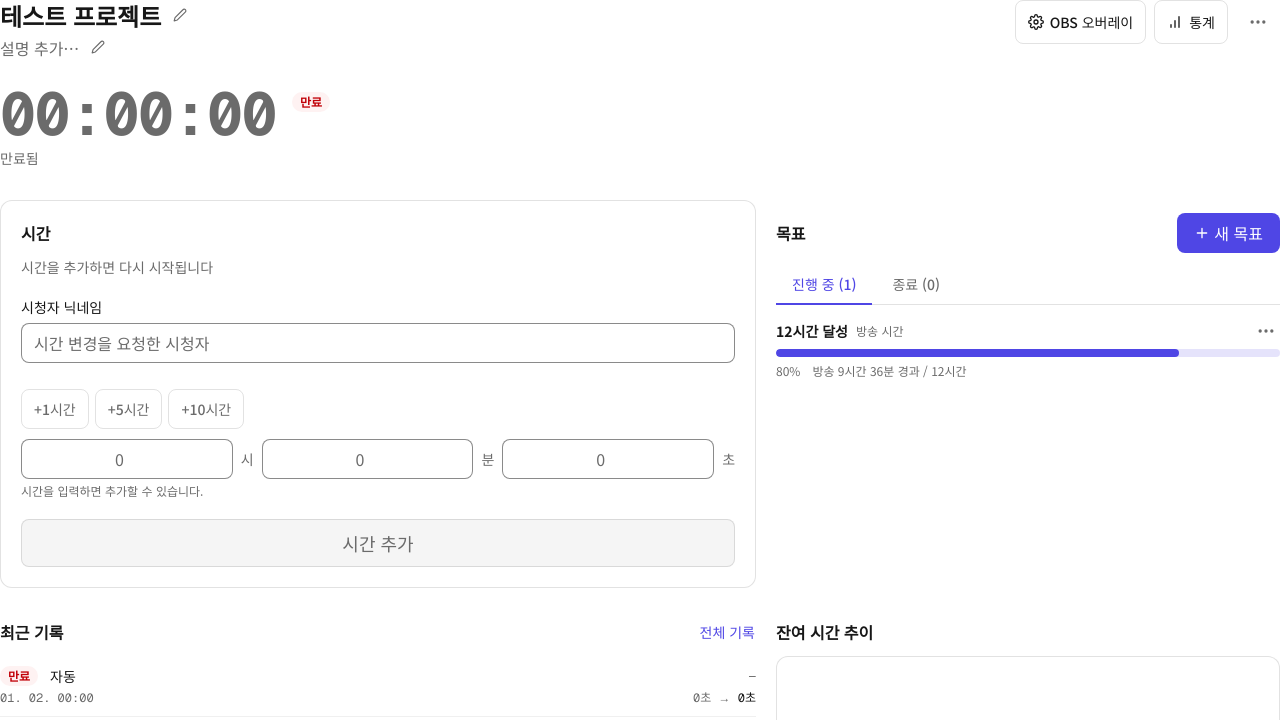
Test: 프로젝트 콘솔 › 진행 중인 목표가 있으면 초기화 확인창이 진행률이 처음부터 다시 쌓인다고 알린다
Expected: the heading "12시간 달성" is shown, [776, 321, 848, 341]
Click the button named "더보기": (1258, 22) [1236, 0, 1279, 44]
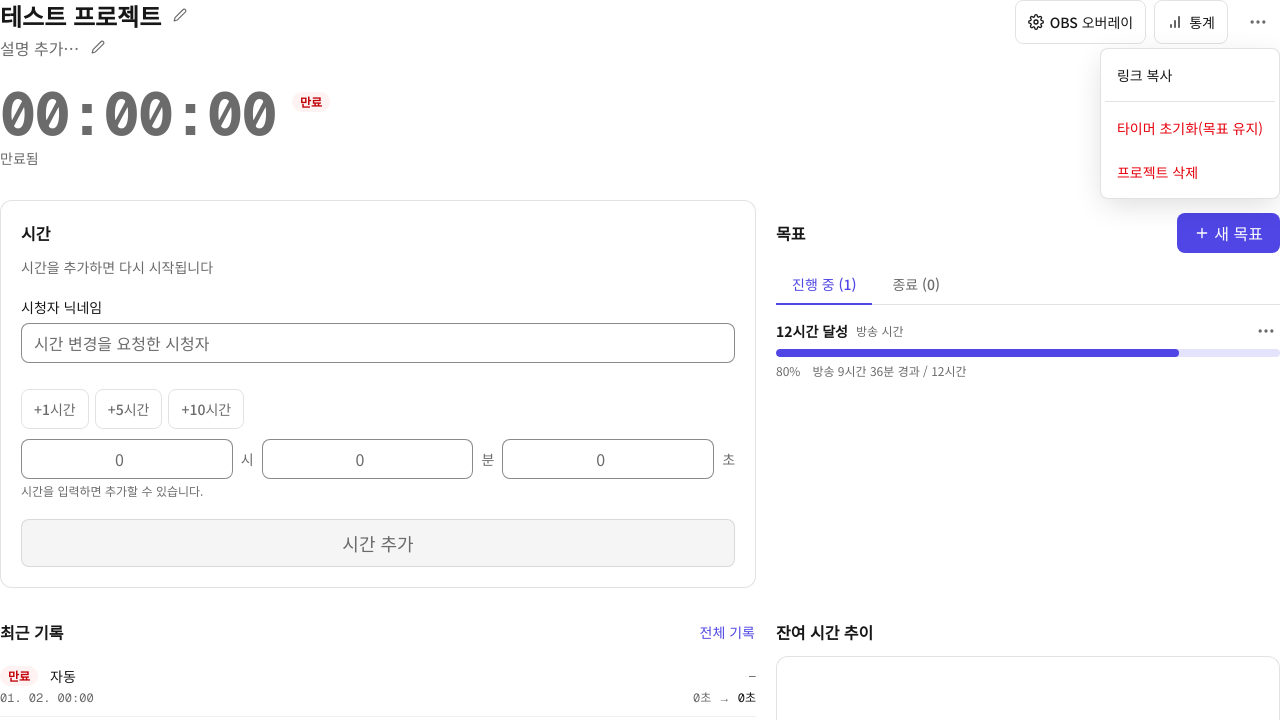
Click the button "타이머 초기화(목표 유지)": (1190, 128) [1105, 106, 1275, 150]
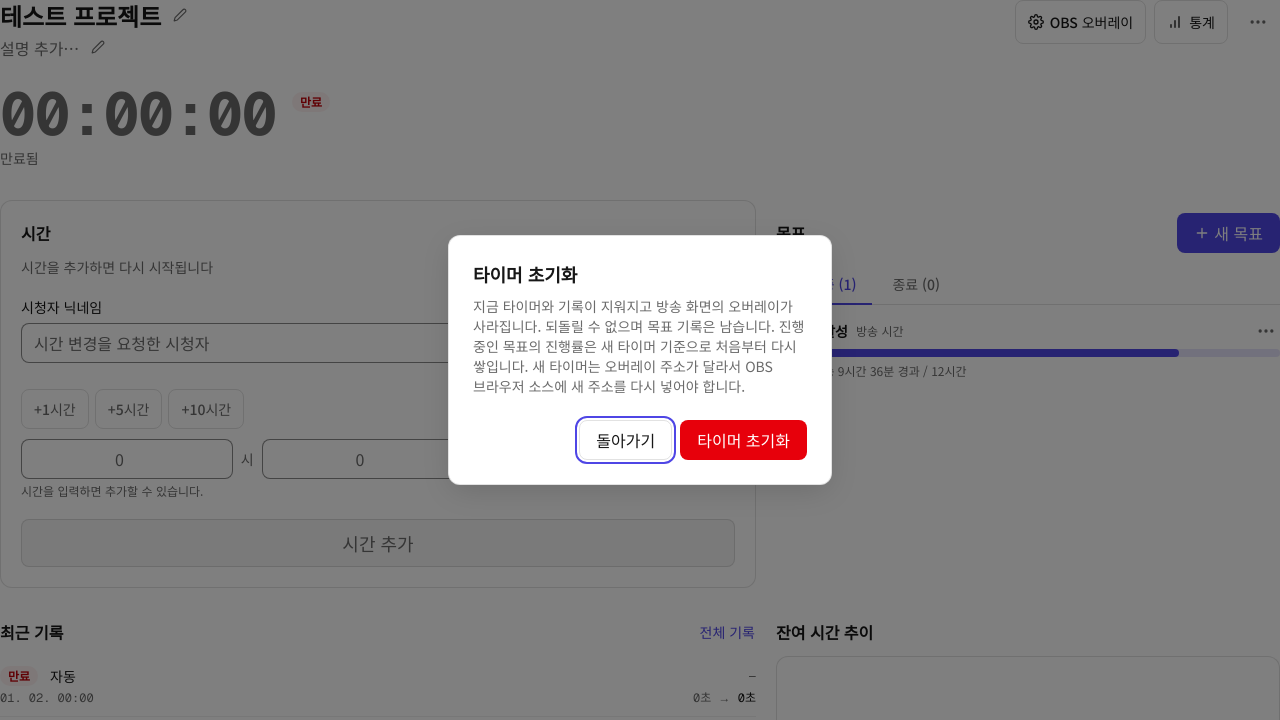
Now the text "진행 중인 목표의 진행률은 새 타이머 기준으로 처음부터 다시 쌓입니다" is shown, box [473, 296, 804, 396]
